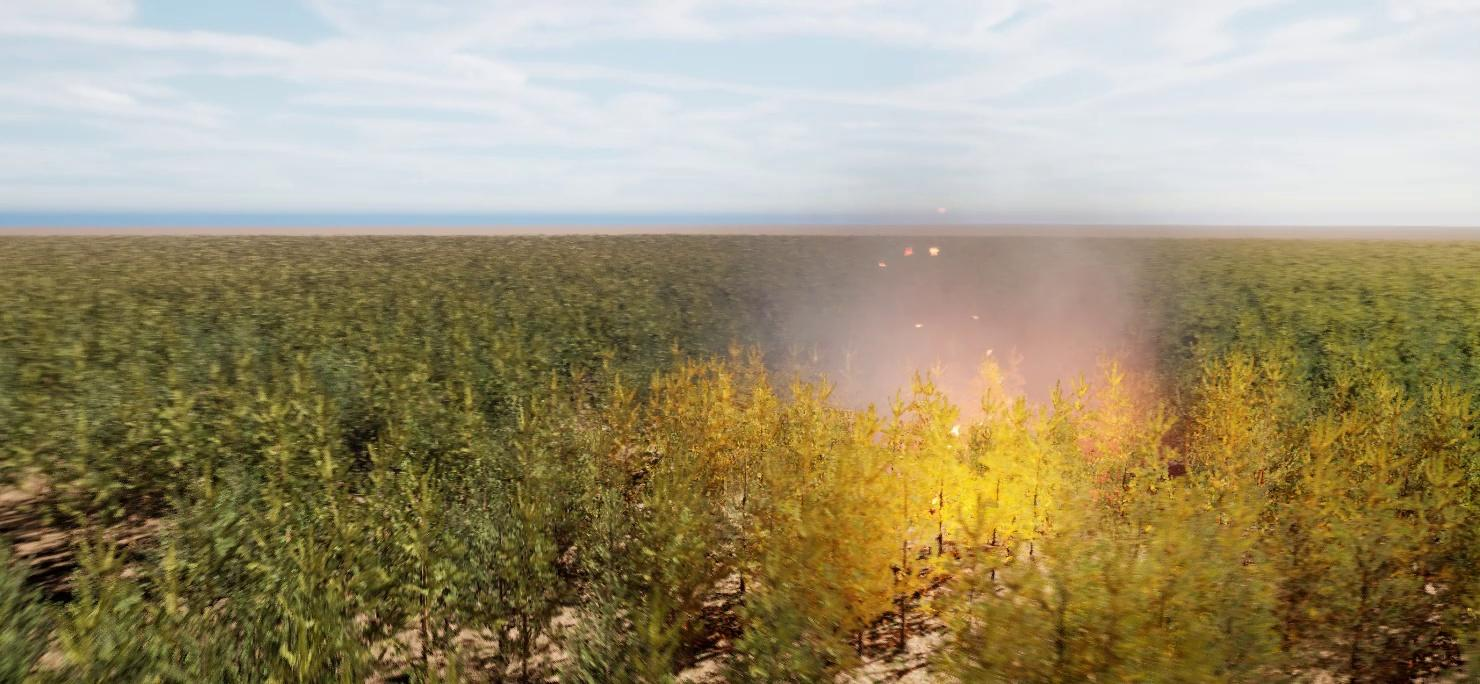fire: (850, 371, 1156, 524)
smoke: (765, 153, 1169, 444)
